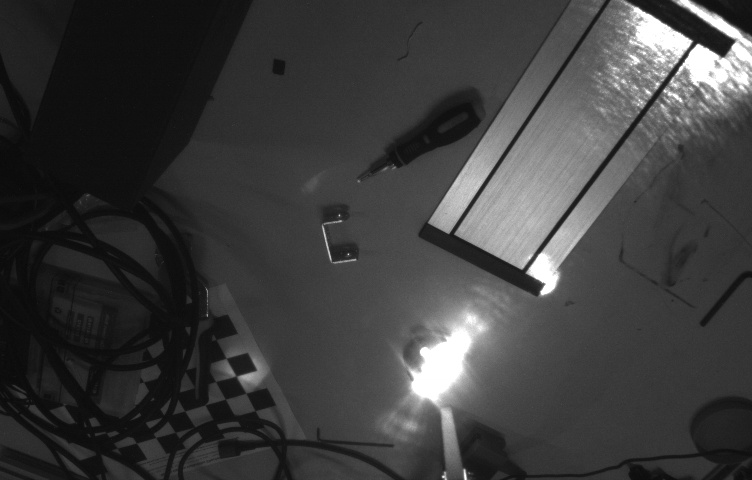Object retractable gel pen - Material plastic- Pdfname asdasdaswe: (392, 359, 471, 403)
